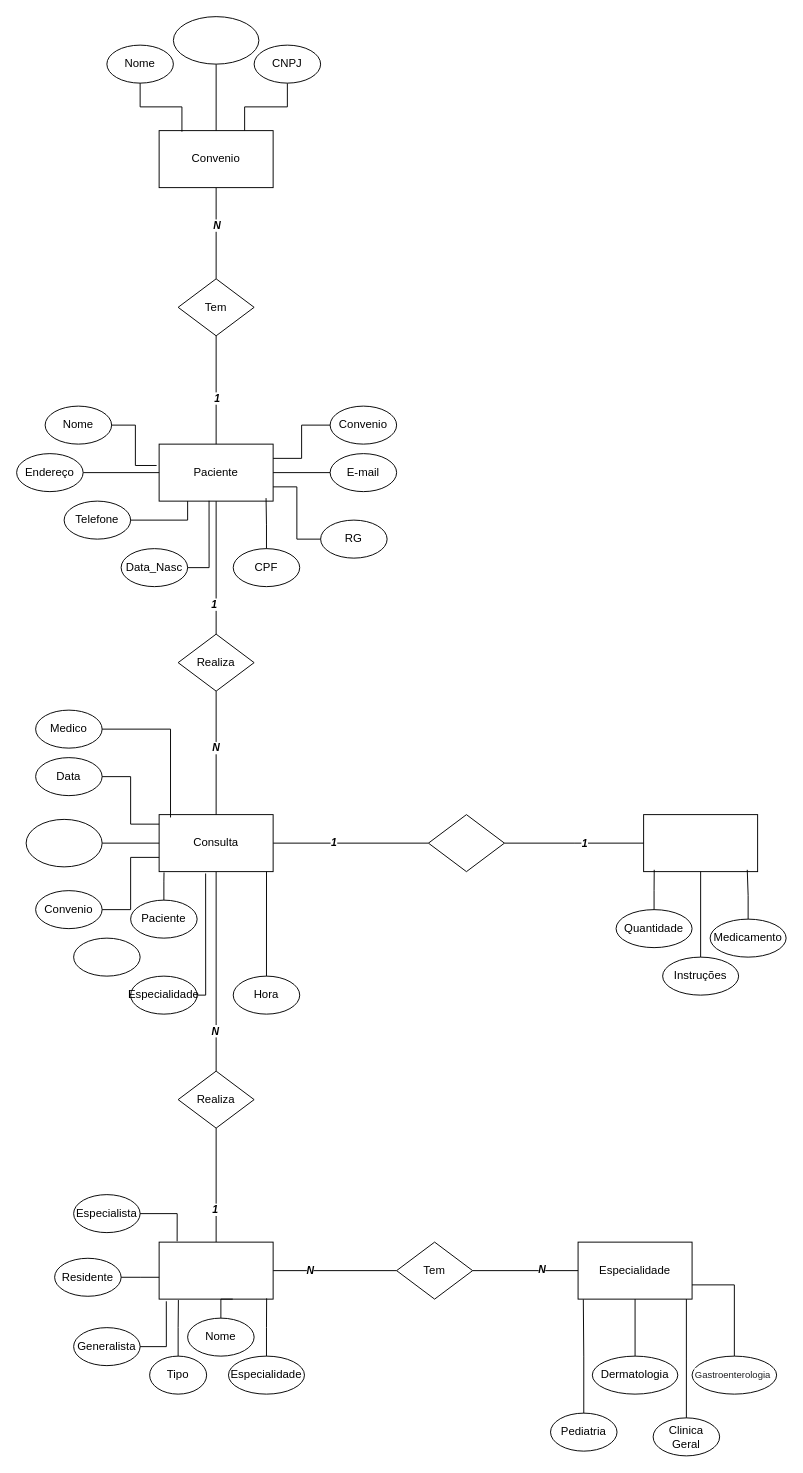
Some shapes in this 803 by 1473 pixel diagram are drawn without their labels. Here are the shapes that lost their labels. From the top down, the box of each, then its label:
(172, 16, 259, 64): Tempo_Carencia
(25, 818, 102, 867): Num_Carteira
(428, 814, 504, 872): Gera
(643, 814, 758, 872): Receita
(73, 937, 140, 976): Valor
(158, 1241, 273, 1299): Médico
